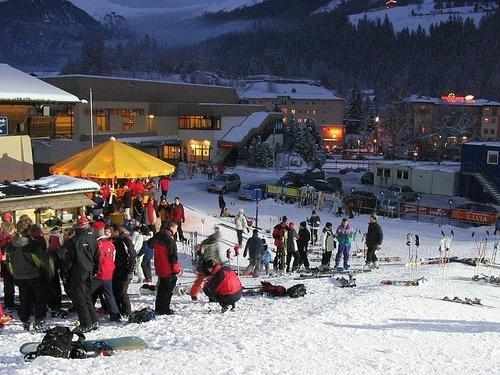car: (347, 190, 380, 216), (208, 172, 242, 194), (386, 183, 419, 202), (239, 180, 268, 201), (378, 198, 401, 219), (309, 178, 339, 194), (455, 203, 500, 212), (361, 172, 374, 186)
